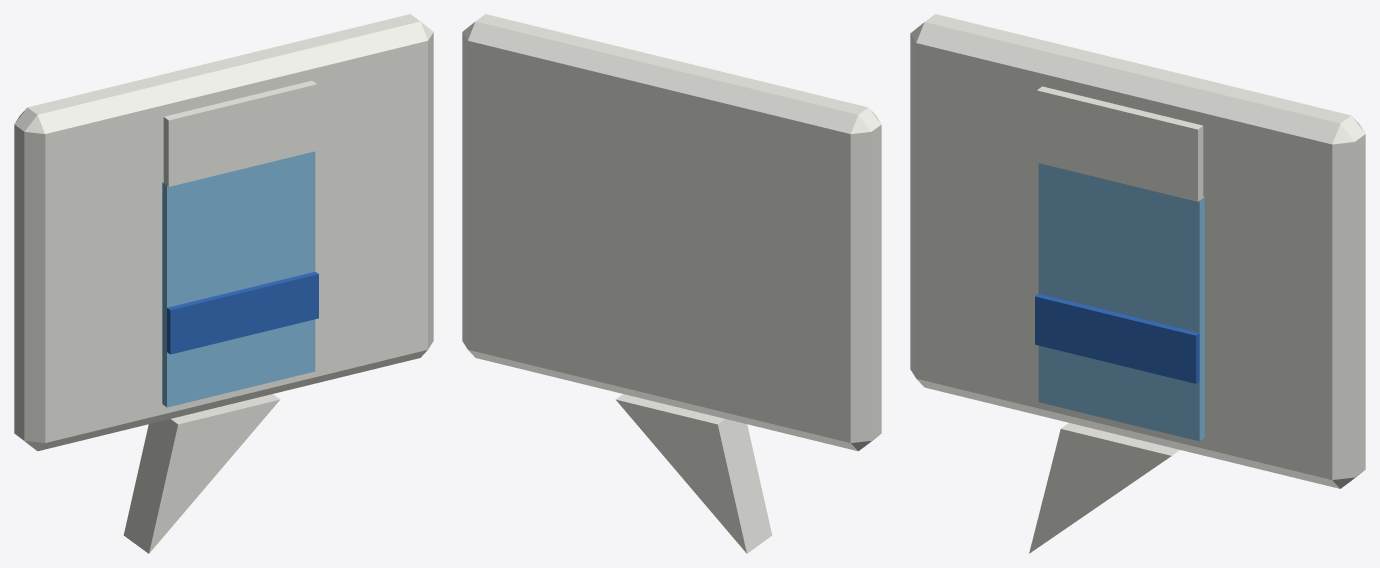
Rendered from bubble_milk.glb.
3 views of the same model, side by side, from view 1: azimuth 30°, elevation 25°; view 2: azimuth 150°, elevation 25°; view 3: azimuth 330°, elevation 25° (orthographic). The views are drawn at different scales.
Parts seen in each view (by area): view 1: bubble_milk; view 2: bubble_milk; view 3: bubble_milk.
Part boxes in pixels (x1,y1,x2,y2): bubble_milk: [14, 14, 433, 553]; bubble_milk: [462, 14, 881, 553]; bubble_milk: [910, 14, 1365, 553].
Size of the model in its own units: 0.56 by 0.6 by 0.079.
Materials: 1 (1 with a texture image).
